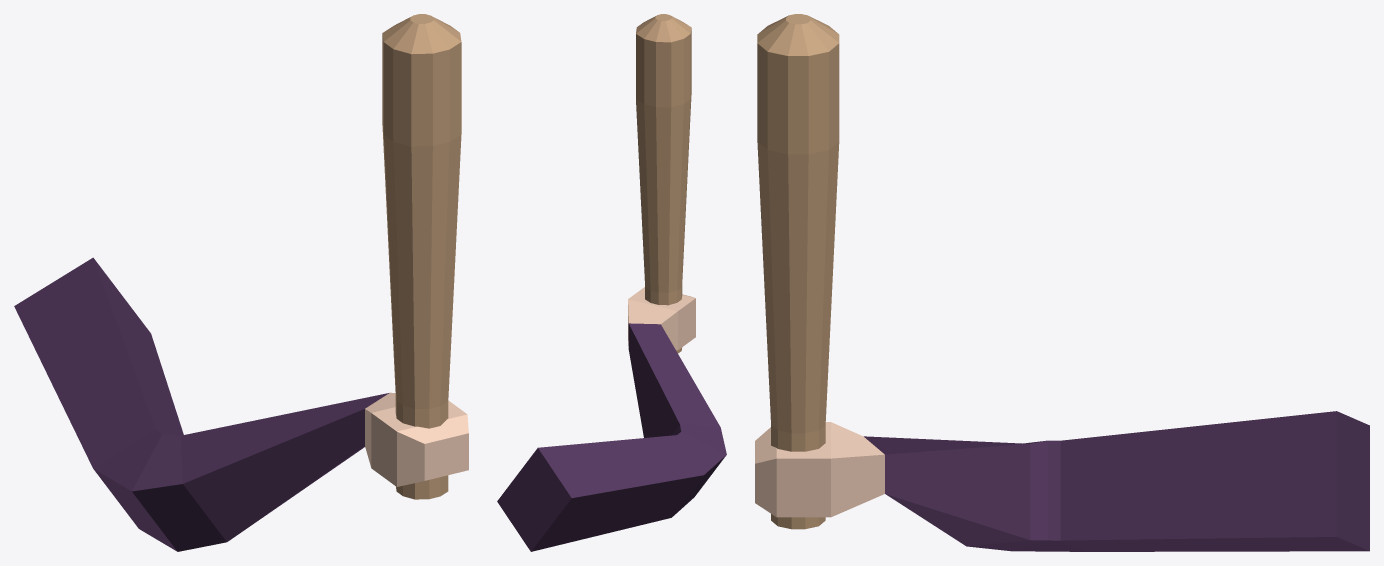
Rendered from ViewmodelBat.fbx.
3 renders of one model, left to right at view 1: azimuth 30°, elevation 25°; view 2: azimuth 150°, elevation 25°; view 3: azimuth 270°, elevation 25°, orthographic. The views are drawn at different scales.
Parts seen in each view (by area): view 1: Arm, Bat, Hand; view 2: Arm, Bat, Hand; view 3: Arm, Bat, Hand.
Boxes of the visible parts, box(x1,y1,x2,y2) form: Arm: box(14, 257, 388, 551); Bat: box(382, 14, 461, 499); Hand: box(365, 392, 468, 486); Arm: box(497, 323, 726, 551); Bat: box(636, 14, 691, 353); Hand: box(628, 287, 695, 350); Arm: box(864, 411, 1369, 551); Bat: box(757, 14, 839, 529); Hand: box(755, 422, 884, 517).
Size of the model in its own units: 25.85 by 62.04 by 56.77.
Materials: 2 (1 with a texture image).
